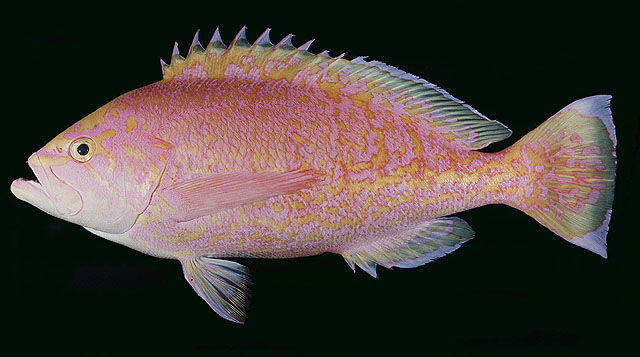fish: (11, 25, 617, 325)
